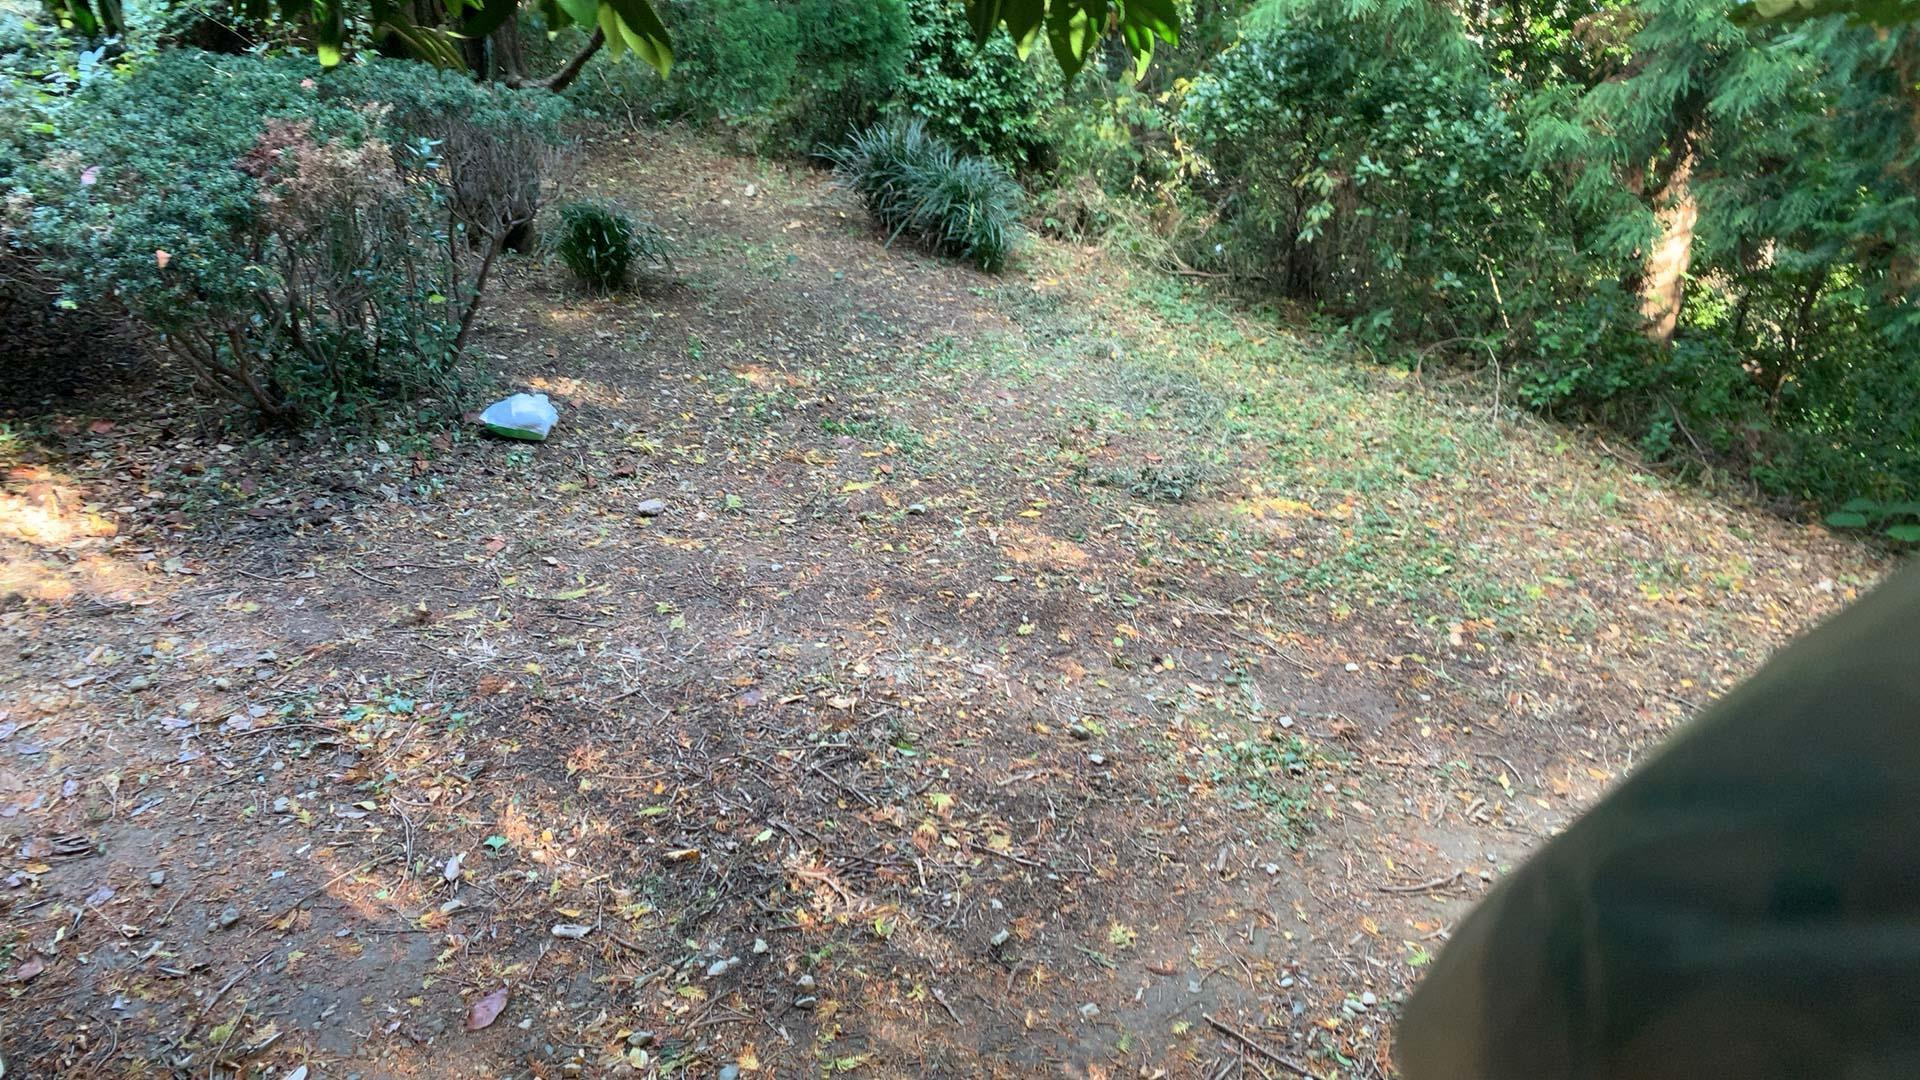white_bag: (471, 388, 563, 448)
